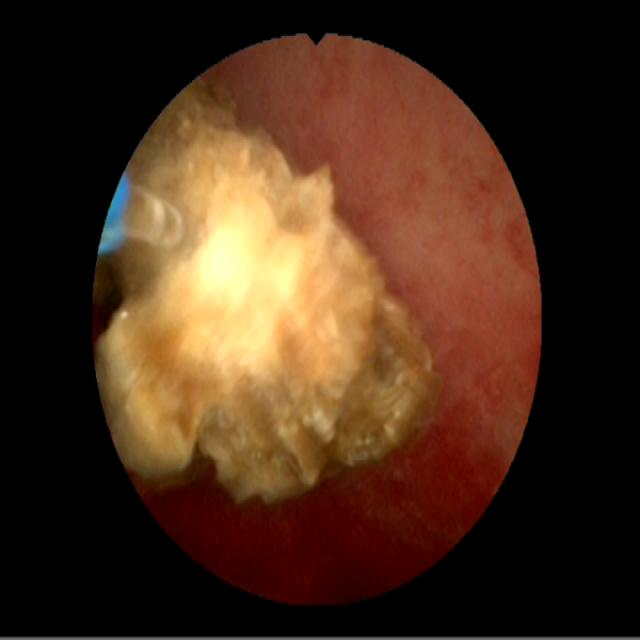fiber: (99, 173, 128, 251)
stone: (99, 86, 443, 502)
tissue: (180, 41, 535, 593)
